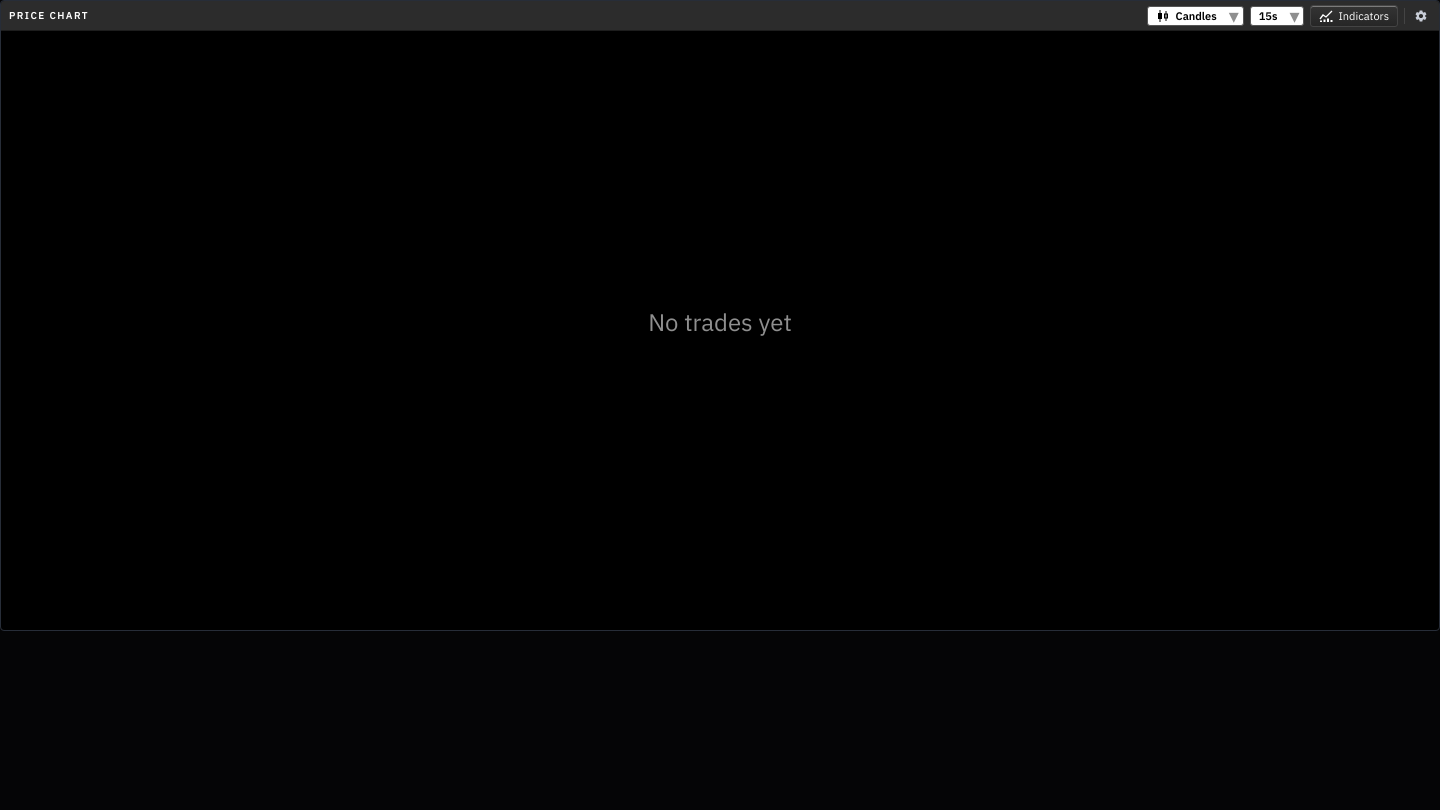
Test: Indicators folders (P17-9) › shows each group's count of indicators on in the Indicators listing
Click the button with test id "pc-settings-gear".
click(1421, 16)  # box [1411,6,1431,26]
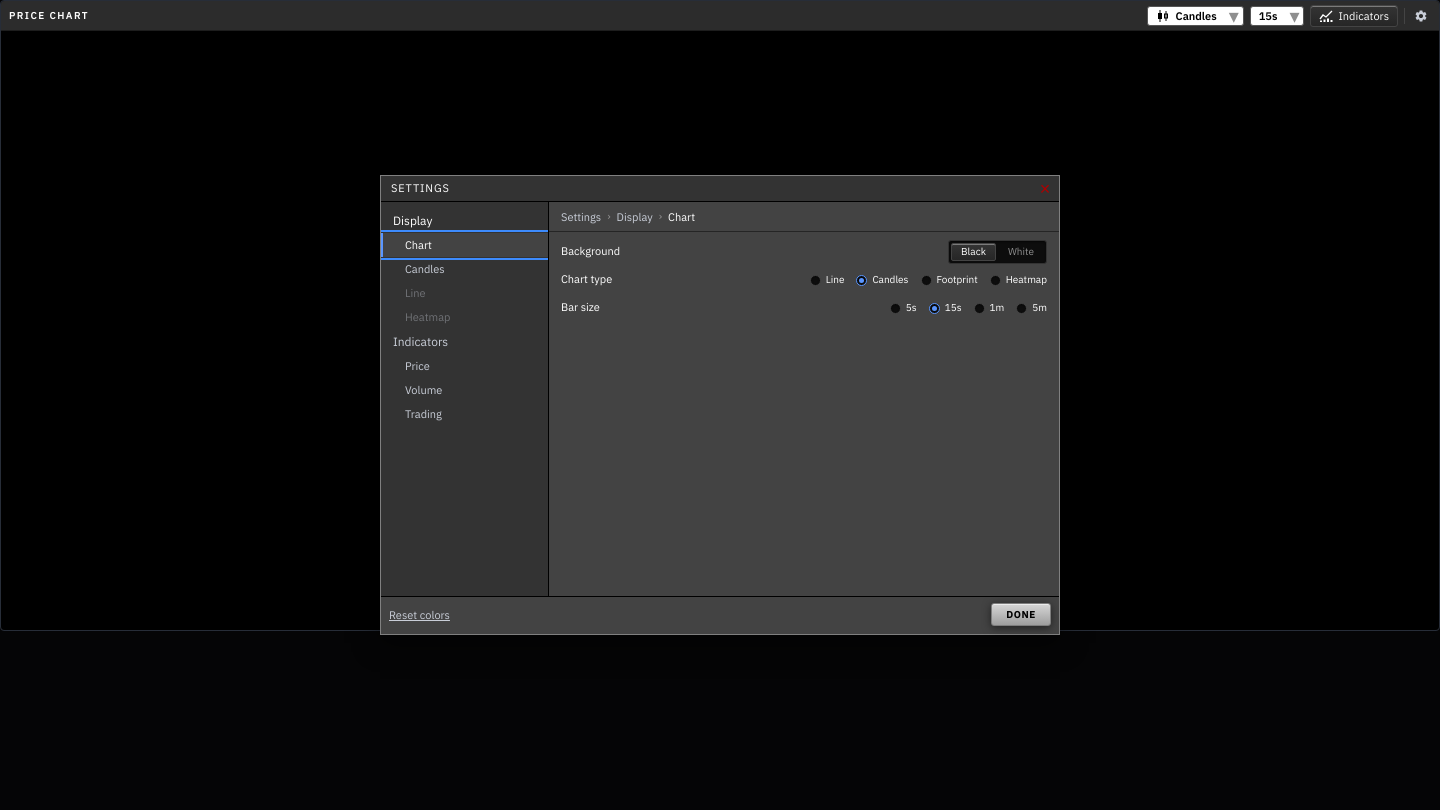
Click the button with test id "pc-settings-indicators-cat".
click(464, 342)  # box [381,329,548,354]
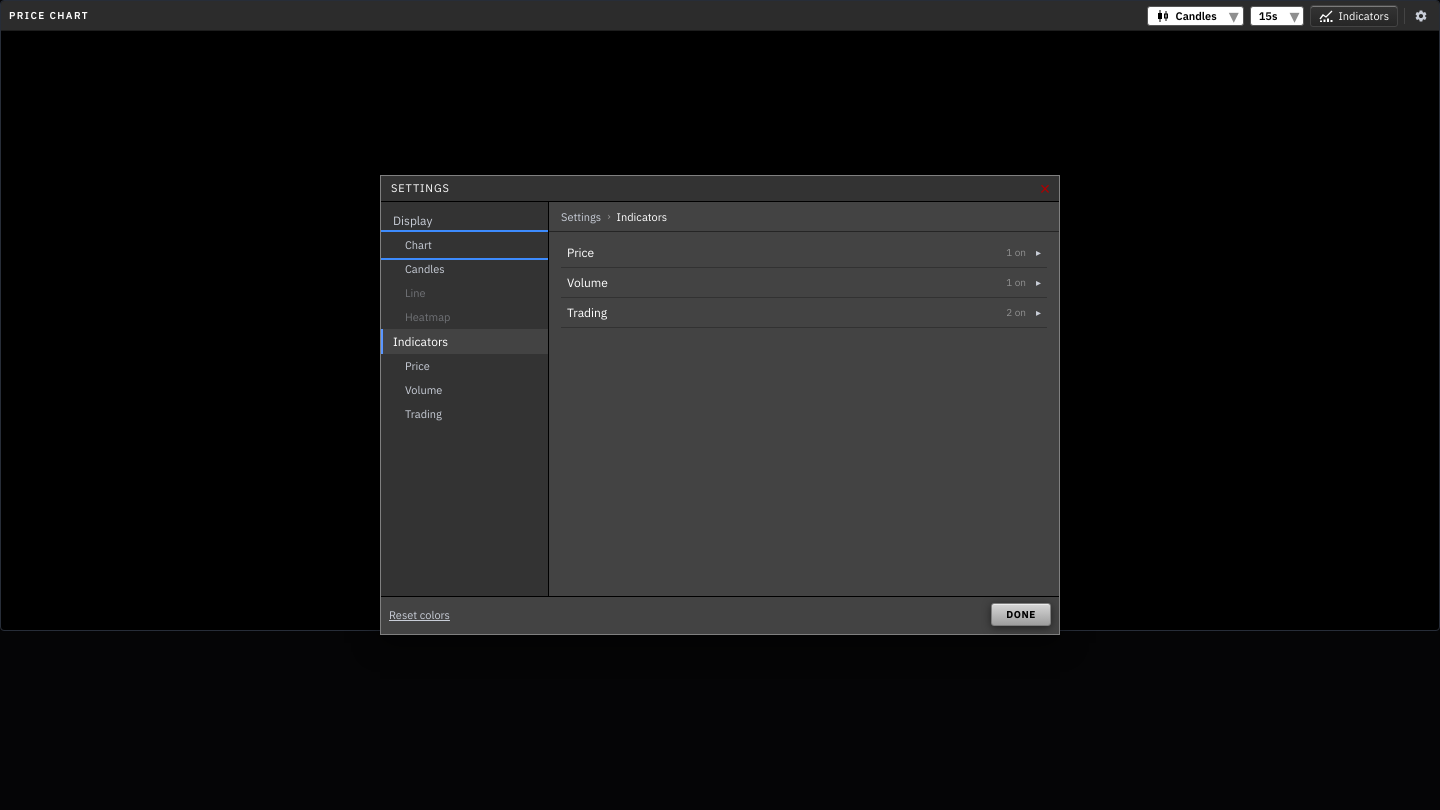
Expected: the button with test id "pc-entry-indicators-price" shows "1 on", [561,238,1047,268]
Expected: the button with test id "pc-entry-indicators-volume" shows "1 on", [561,268,1047,298]
Expected: the button with test id "pc-entry-indicators-trading" shows "2 on", [561,298,1047,328]
